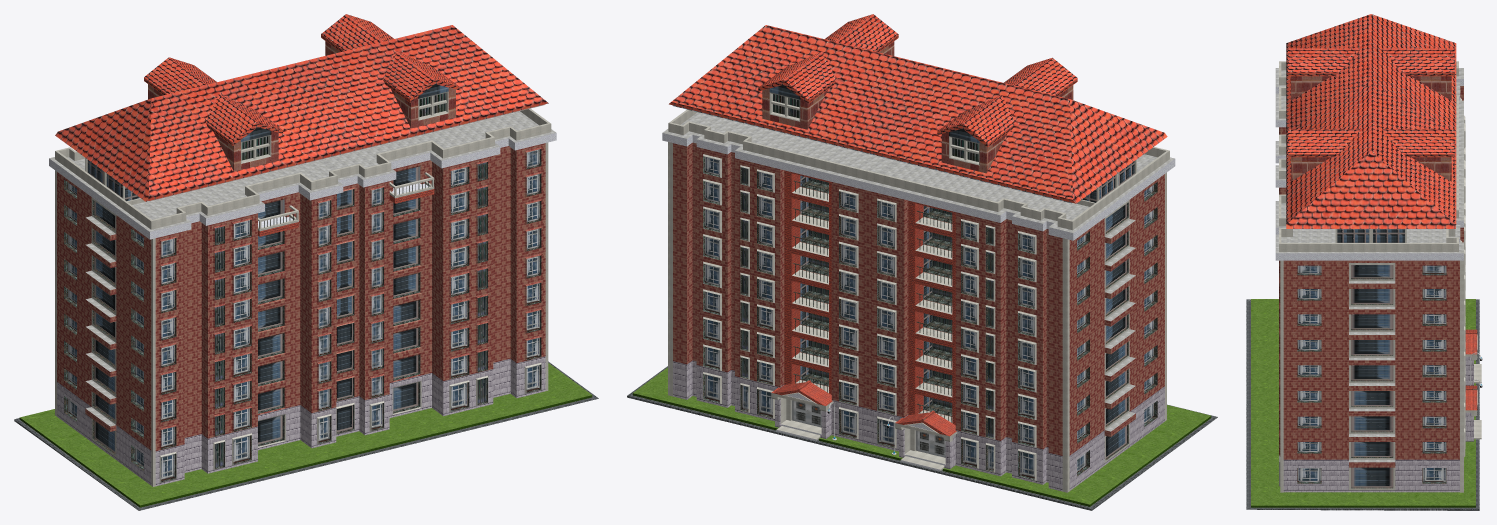
The model's file is low_building2.obj.
3 views of the same model, side by side, from view 1: azimuth 30°, elevation 25°; view 2: azimuth 150°, elevation 25°; view 3: azimuth 270°, elevation 25° (orthographic). The views are drawn at different scales.
Parts seen in each view (by area): view 1: low_building2; view 2: low_building2; view 3: low_building2.
Boxes of the visible parts, left/top/right/bottom form: low_building2: left=14, top=14, right=598, bottom=510; low_building2: left=627, top=14, right=1217, bottom=510; low_building2: left=1246, top=14, right=1482, bottom=510.
Bounding box in the file's own units: 447 × 321 × 213.
Materials: 17 (16 with a texture image).
